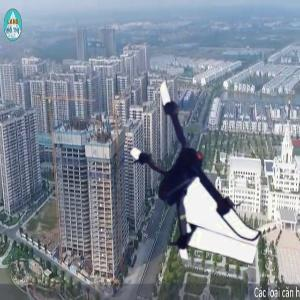drone: (102, 84, 277, 259)
